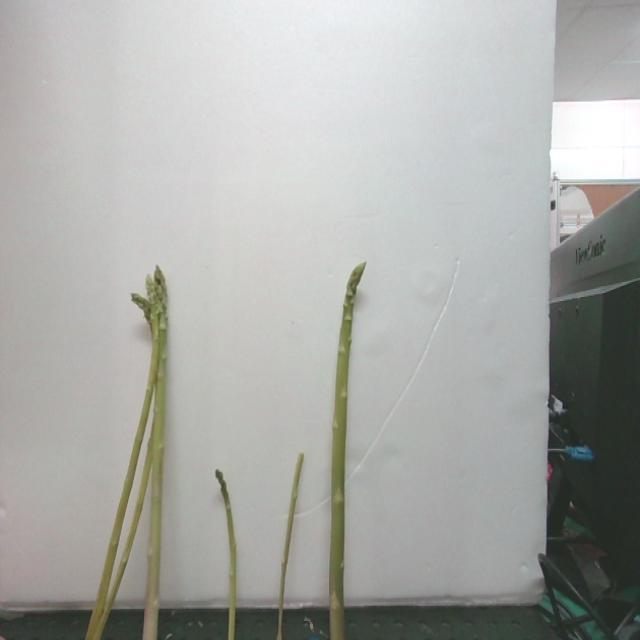aspargus: (330, 265, 367, 640), (142, 267, 168, 640), (214, 471, 238, 640)
